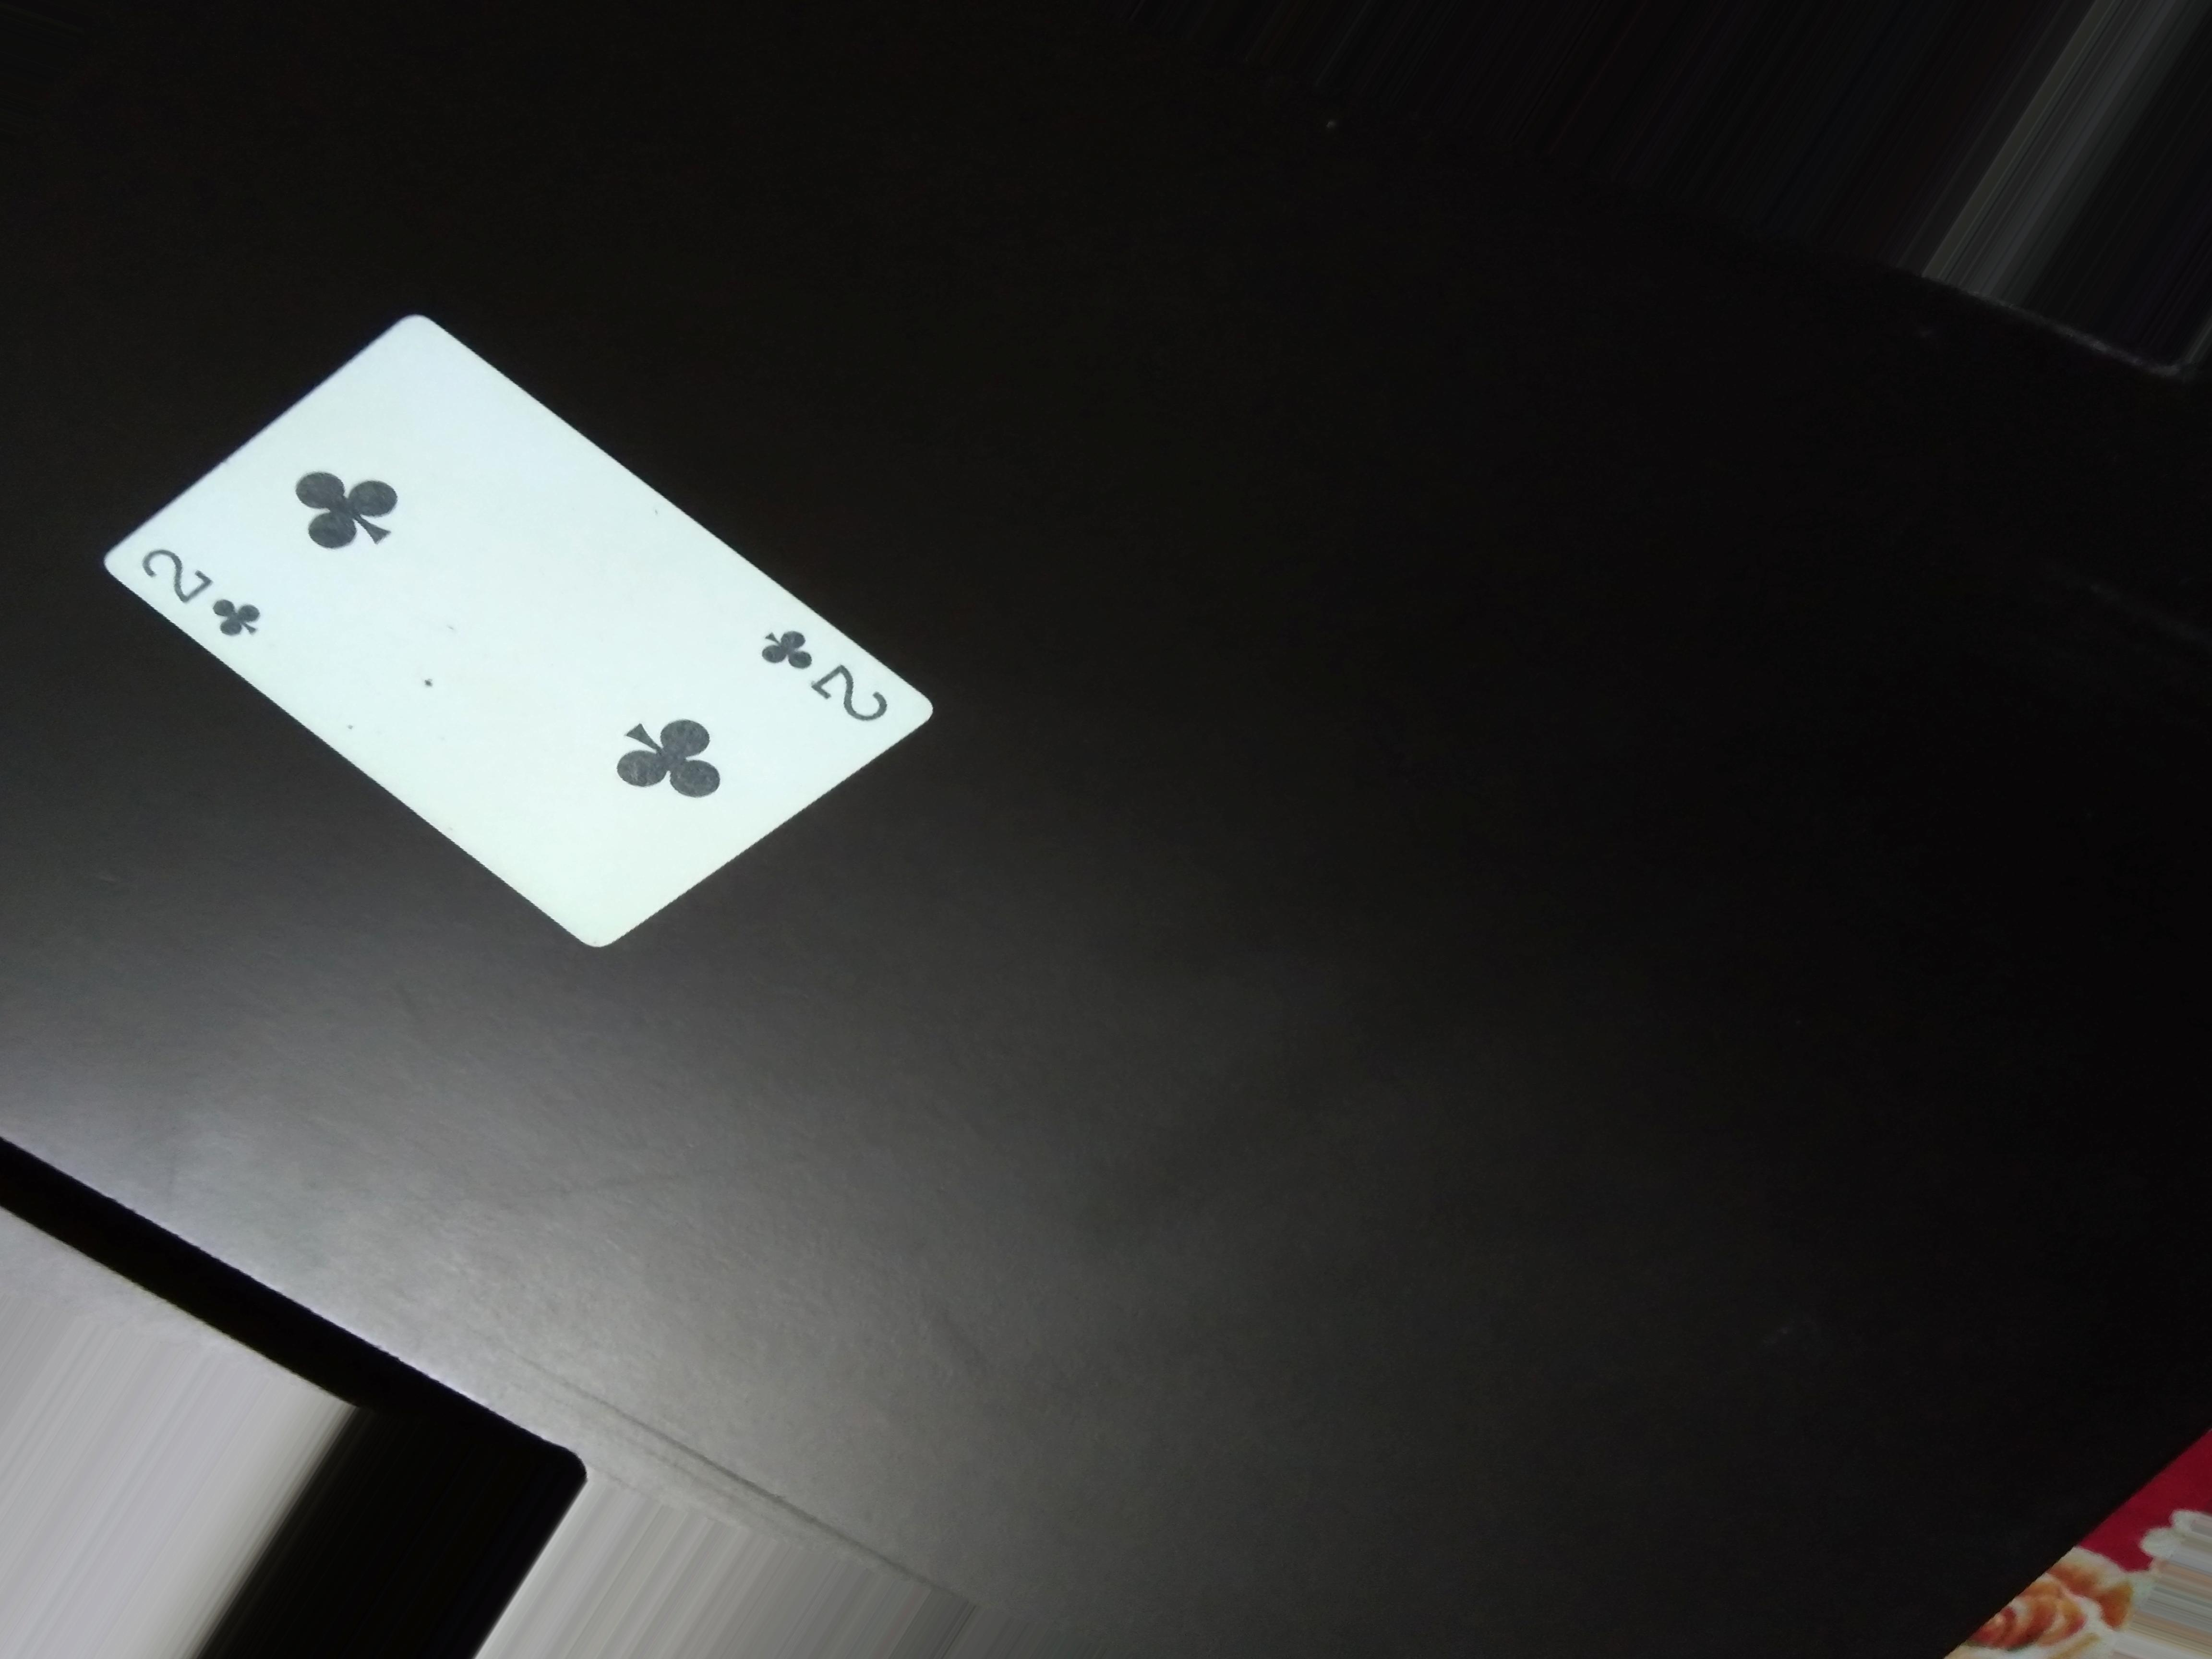2C: (118, 552, 279, 640)
